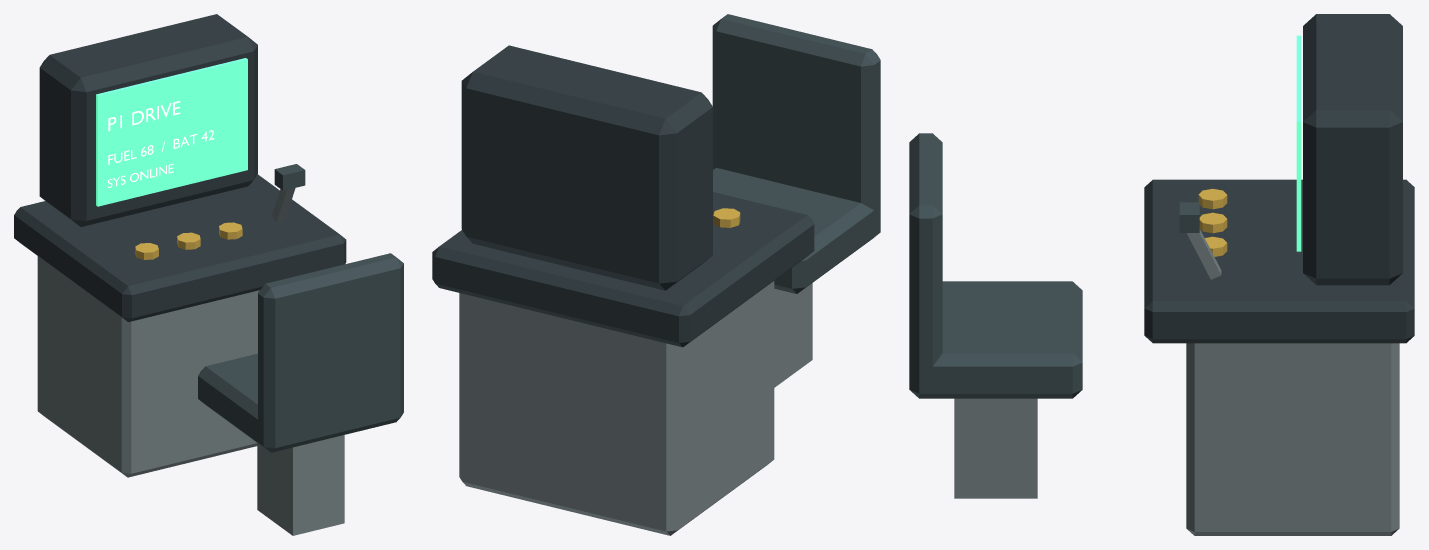
File: DeadRail_Drive_Console.fbx
3 views of the same model, side by side, from view 1: azimuth 30°, elevation 25°; view 2: azimuth 150°, elevation 25°; view 3: azimuth 270°, elevation 25° (orthographic). The views are drawn at different scales.
Visible parts, largest first — view 1: Console_Base, Console_Desk, Seat_Back, CRT_Housing, CRT_Screen, Operator_Seat, Seat_Pedestal, Lever_Grip, Lever; view 2: Console_Base, CRT_Housing, Seat_Back, Console_Desk, Operator_Seat, Seat_Pedestal; view 3: Console_Base, Console_Desk, CRT_Housing, Operator_Seat, Seat_Pedestal, Seat_Back, CRT_Screen, Lever, Lever_Grip.
Part boxes in pixels (x1,y1,x2,y2): Console_Base: (37,256,259,477); Console_Desk: (14,174,346,321); Seat_Back: (258,253,403,424); CRT_Housing: (39,14,257,226); CRT_Screen: (96,58,247,206); Operator_Seat: (198,353,403,452); Seat_Pedestal: (257,435,344,535); Lever_Grip: (274,164,305,190); Lever: (272,188,295,222); Console_Base: (459,281,774,535); CRT_Housing: (461,45,712,290); Seat_Back: (712,14,880,210); Console_Desk: (432,192,814,347); Operator_Seat: (713,168,880,293); Seat_Pedestal: (774,283,812,387); Console_Base: (1186,343,1399,535); Console_Desk: (1144,179,1414,343); CRT_Housing: (1303,14,1402,285); Operator_Seat: (909,281,1082,398); Seat_Pedestal: (954,398,1037,498); Seat_Back: (909,133,942,366); CRT_Screen: (1296,35,1301,251); Lever: (1187,229,1221,279); Lever_Grip: (1179,202,1199,232).
Size of the model in its own units: 0.91 by 1.4 by 1.52.
